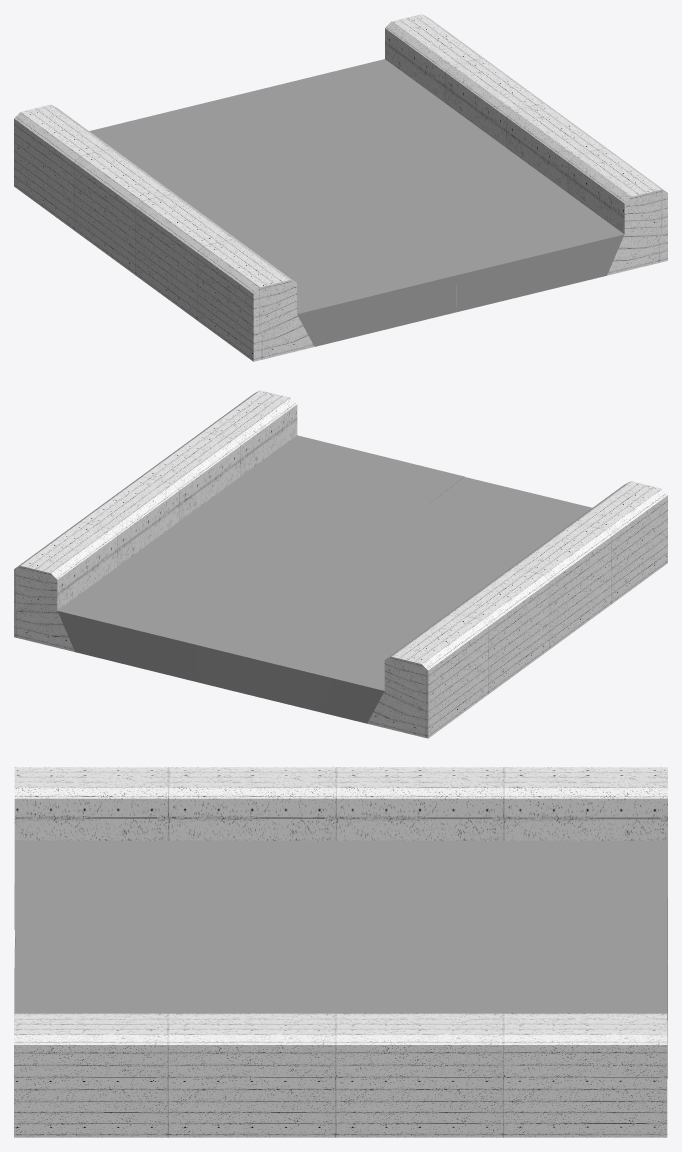
File: half planter.fbx
3 views of the same model, one above another, from view 1: azimuth 30°, elevation 25°; view 2: azimuth 150°, elevation 25°; view 3: azimuth 270°, elevation 25° (orthographic). The views are drawn at different scales.
Parts seen in each view (by area): view 1: planter4; view 2: planter4; view 3: planter4.
Part boxes in pixels (x1=…): planter4: x1=14, y1=14, x2=667, y2=361; planter4: x1=14, y1=390, x2=667, y2=738; planter4: x1=14, y1=767, x2=667, y2=1137.
Size of the model in its own units: 299 by 50.64 by 300.
